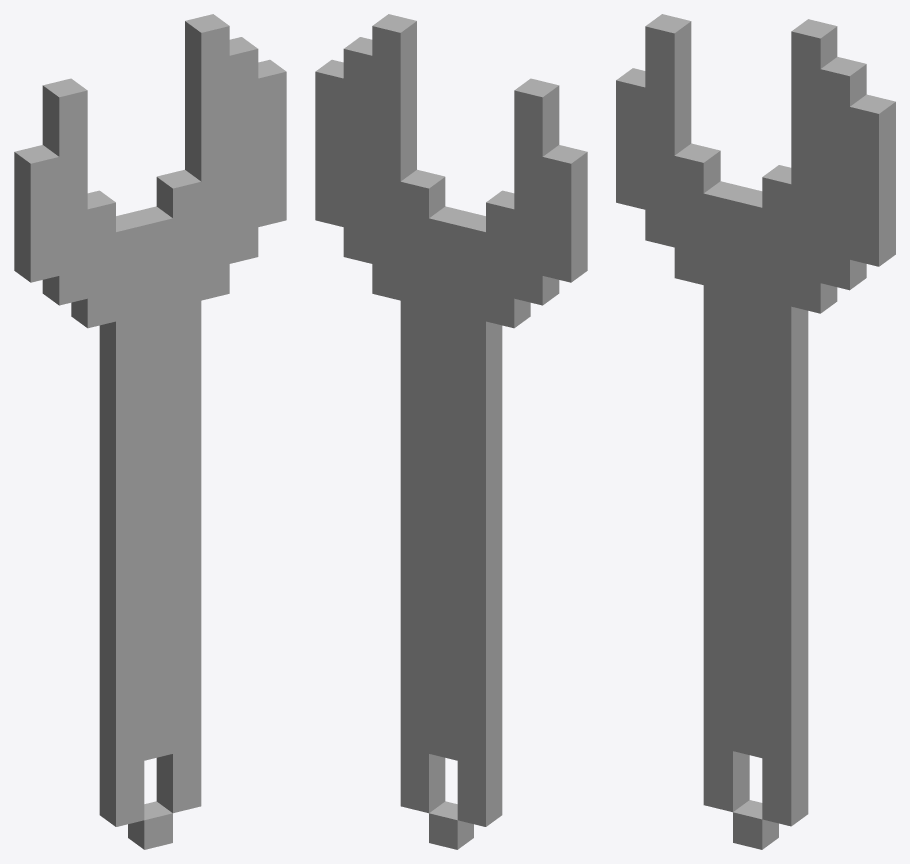
Rendered from Settings.dae.
3 renders of one model, left to right at view 1: azimuth 30°, elevation 25°; view 2: azimuth 150°, elevation 25°; view 3: azimuth 330°, elevation 25°, orthographic. The views are drawn at different scales.
Visible parts, largest first — view 1: Matrix; view 2: Matrix; view 3: Matrix.
Part boxes in pixels (x1,y1,x2,y2): Matrix: [14, 14, 286, 849]; Matrix: [315, 14, 587, 849]; Matrix: [616, 14, 895, 849].
Bounding box in the file's own units: 9 × 27 × 1.
Materials: 1 (1 with a texture image).
